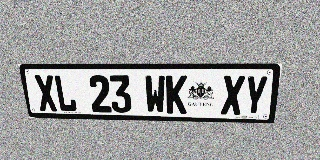2: (88, 75, 112, 112)
3: (109, 75, 132, 113)
K: (166, 75, 187, 114)
L: (53, 75, 78, 112)
W: (144, 75, 166, 113)
X: (221, 75, 245, 115), (33, 75, 58, 111)
Y: (242, 76, 269, 115)
